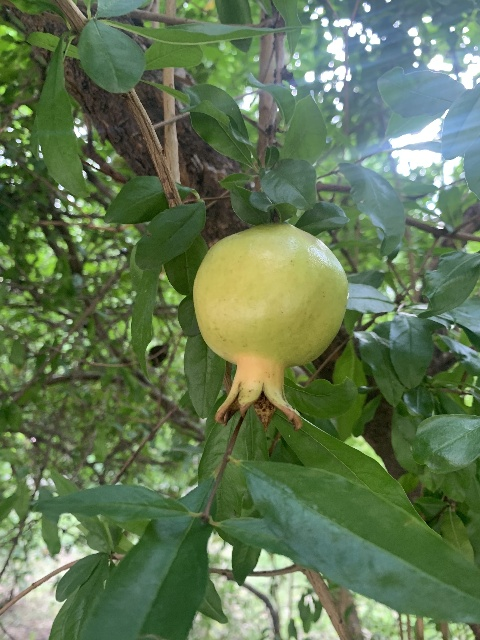mid-growth: (191, 224, 347, 430)
